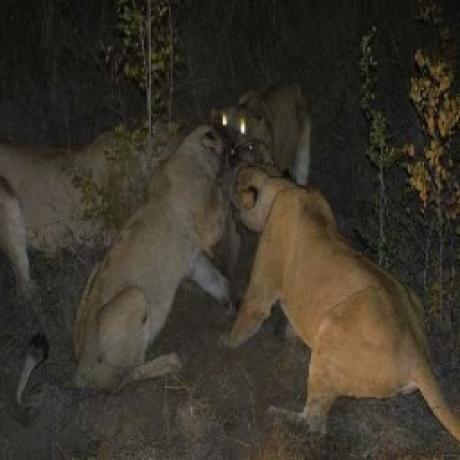Lion: (228, 158, 460, 451), (64, 125, 234, 390)
